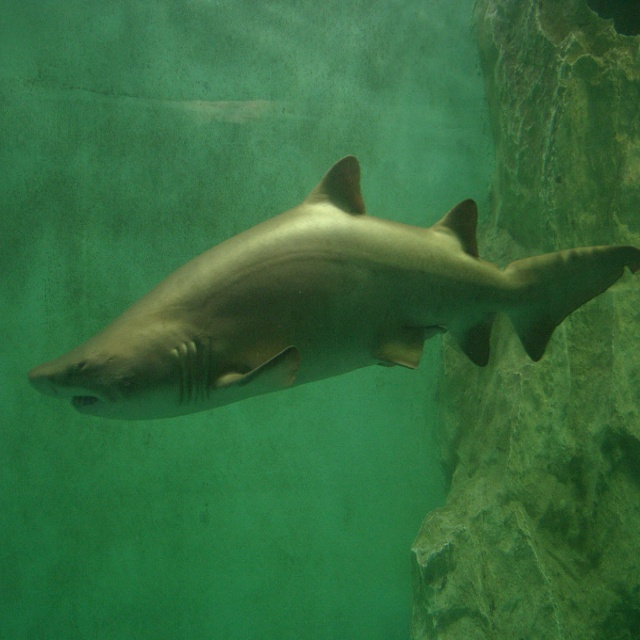Shark: (27, 155, 640, 421)
